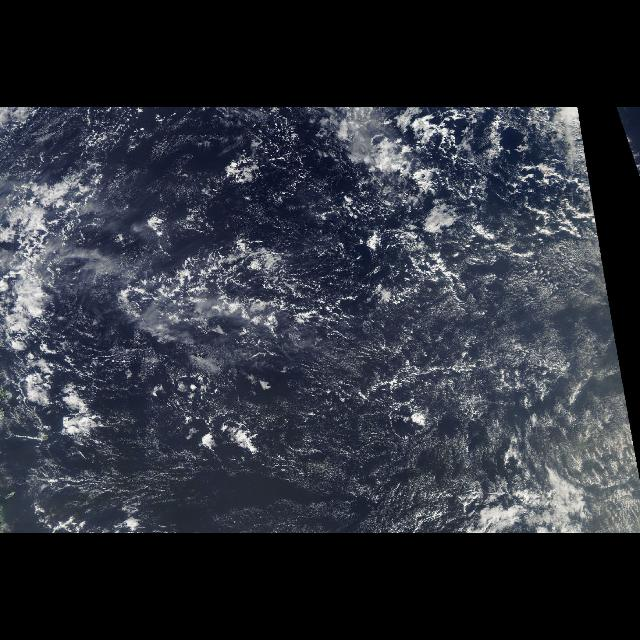Fish: (118, 250, 342, 354)
Gravel: (2, 109, 610, 521), (614, 110, 640, 178)
Sugar: (268, 248, 640, 526)
